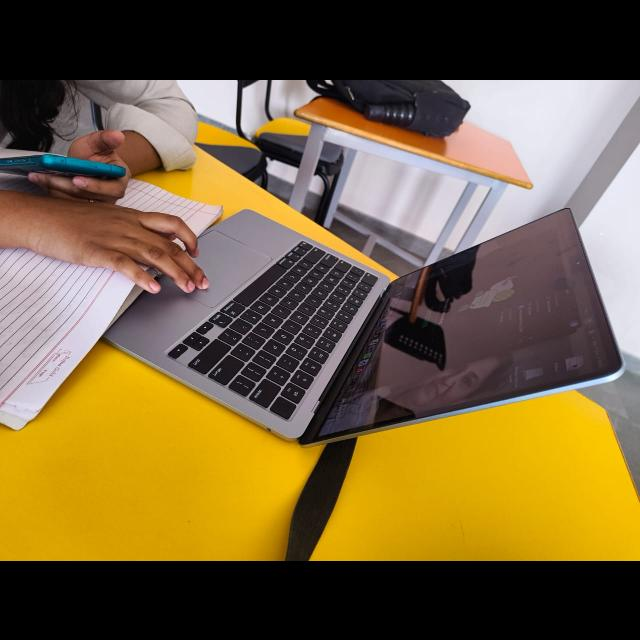laptop: (102, 205, 630, 443)
